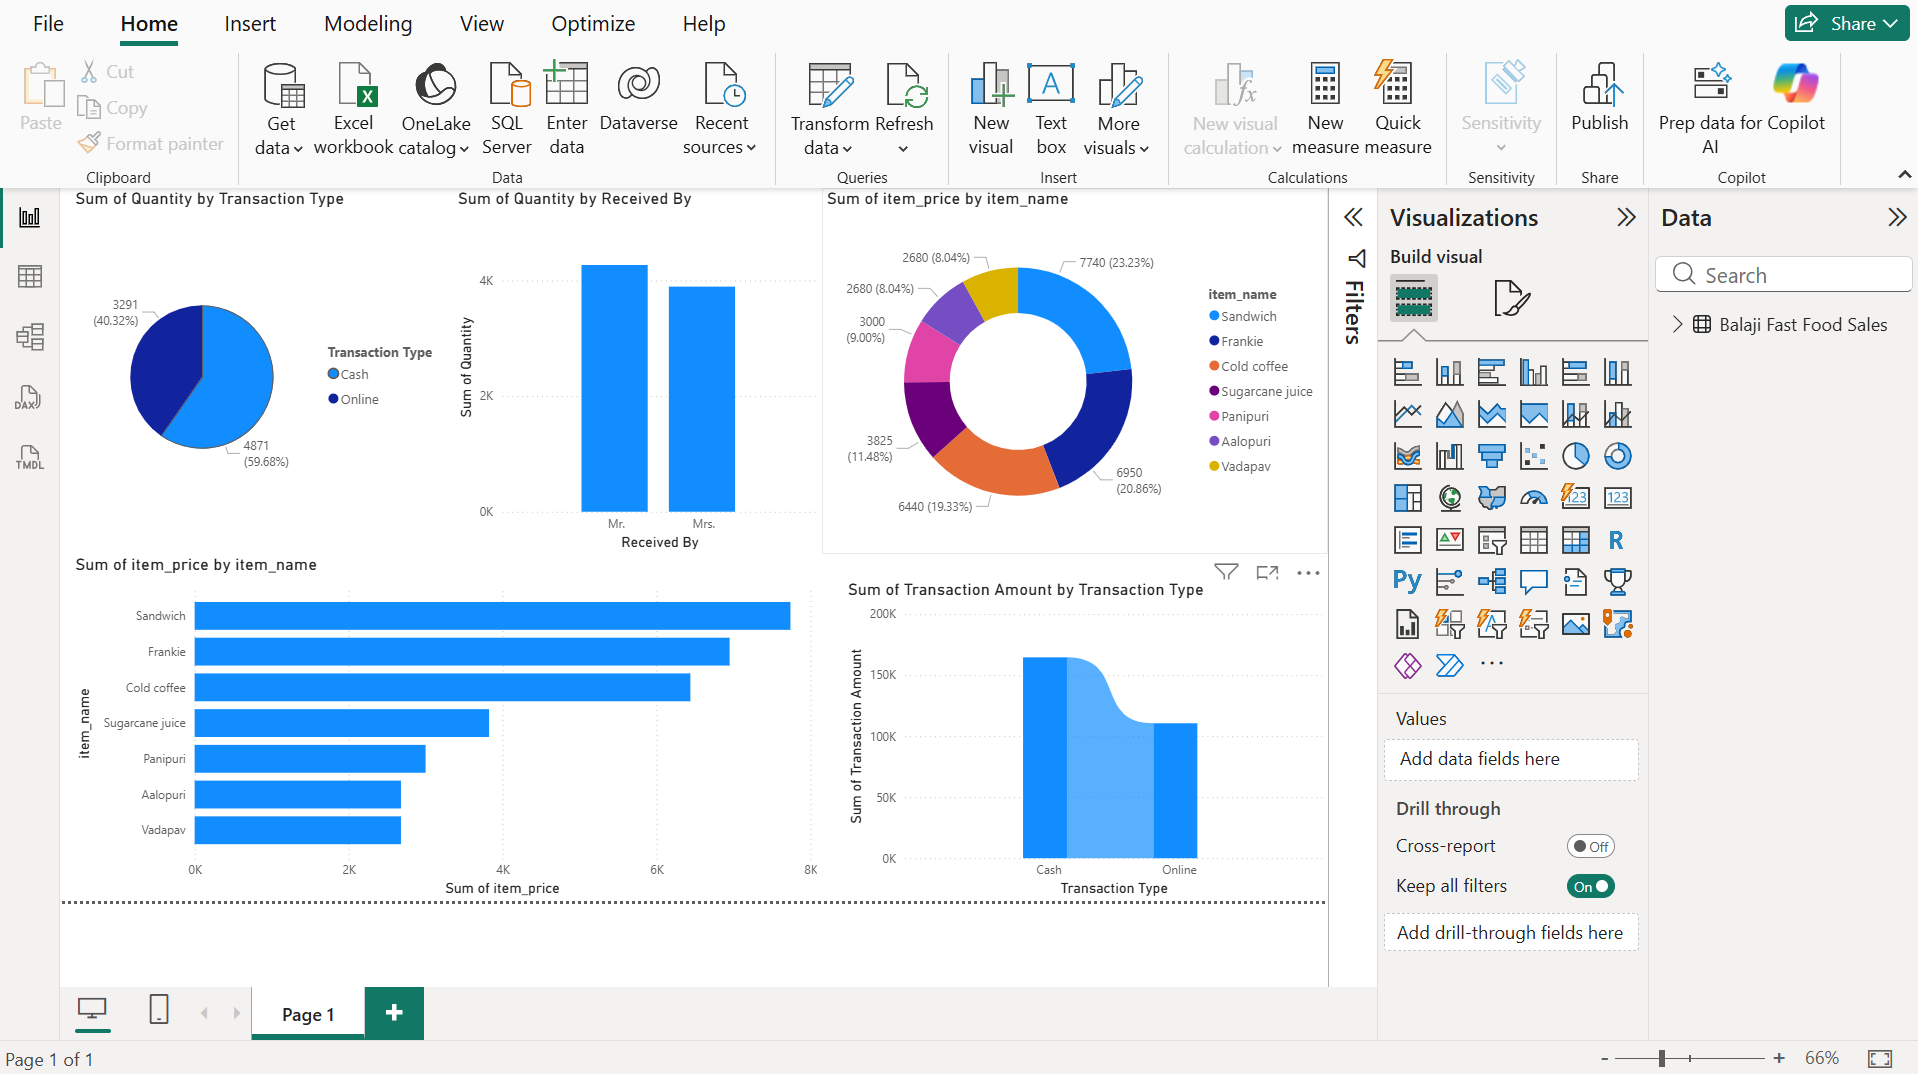

The page's visual inventory and layout, read from the dashboard file:
{"tool":"powerbi","page":{"name":"Page 1","canvas":[1280,720],"ordinal":0},"visuals":[{"type":"pieChart","fields":{"Category":["Balaji Fast Food Sales.Transaction Type"],"Y":["Sum(Balaji Fast Food Sales.Quantity)"]},"box":[10.6,0,384.6,360.4],"z":0},{"type":"barChart","fields":{"Category":["Balaji Fast Food Sales.item_name"],"Y":["Sum(Balaji Fast Food Sales.item_price)"]},"box":[10.6,369.5,758.6,349.8],"z":1000},{"type":"columnChart","fields":{"Y":["Sum(Balaji Fast Food Sales.Quantity)"],"Category":["Balaji Fast Food Sales.Received By"]},"box":[396.7,0,372.5,369.5],"z":2000},{"type":"donutChart","fields":{"Category":["Balaji Fast Food Sales.item_name"],"Y":["Sum(Balaji Fast Food Sales.item_price)"]},"box":[769.2,0,510.3,369.5],"z":3000},{"type":"ribbonChart","fields":{"Y":["Sum(Balaji Fast Food Sales.Transaction Amount)"],"Category":["Balaji Fast Food Sales.Transaction Type"]},"box":[790.4,395.2,489.1,324],"z":4000}]}

Visuals, with their boxes on the page's 1280x720 design canvas (x1, y1, x2, y2). These are canvas units, not pixel positions in the 1918x1074 screenshot, which may show the page scaled, cropped or inside an application window:
pieChart - Balaji Fast Food Sales.Transaction Type x Sum(Balaji Fast Food Sales.Quantity): locate(11, 0, 395, 360)
barChart - Balaji Fast Food Sales.item_name x Sum(Balaji Fast Food Sales.item_price): locate(11, 370, 769, 719)
columnChart - Sum(Balaji Fast Food Sales.Quantity) x Balaji Fast Food Sales.Received By: locate(397, 0, 769, 370)
donutChart - Balaji Fast Food Sales.item_name x Sum(Balaji Fast Food Sales.item_price): locate(769, 0, 1280, 370)
ribbonChart - Sum(Balaji Fast Food Sales.Transaction Amount) x Balaji Fast Food Sales.Transaction Type: locate(790, 395, 1280, 719)
